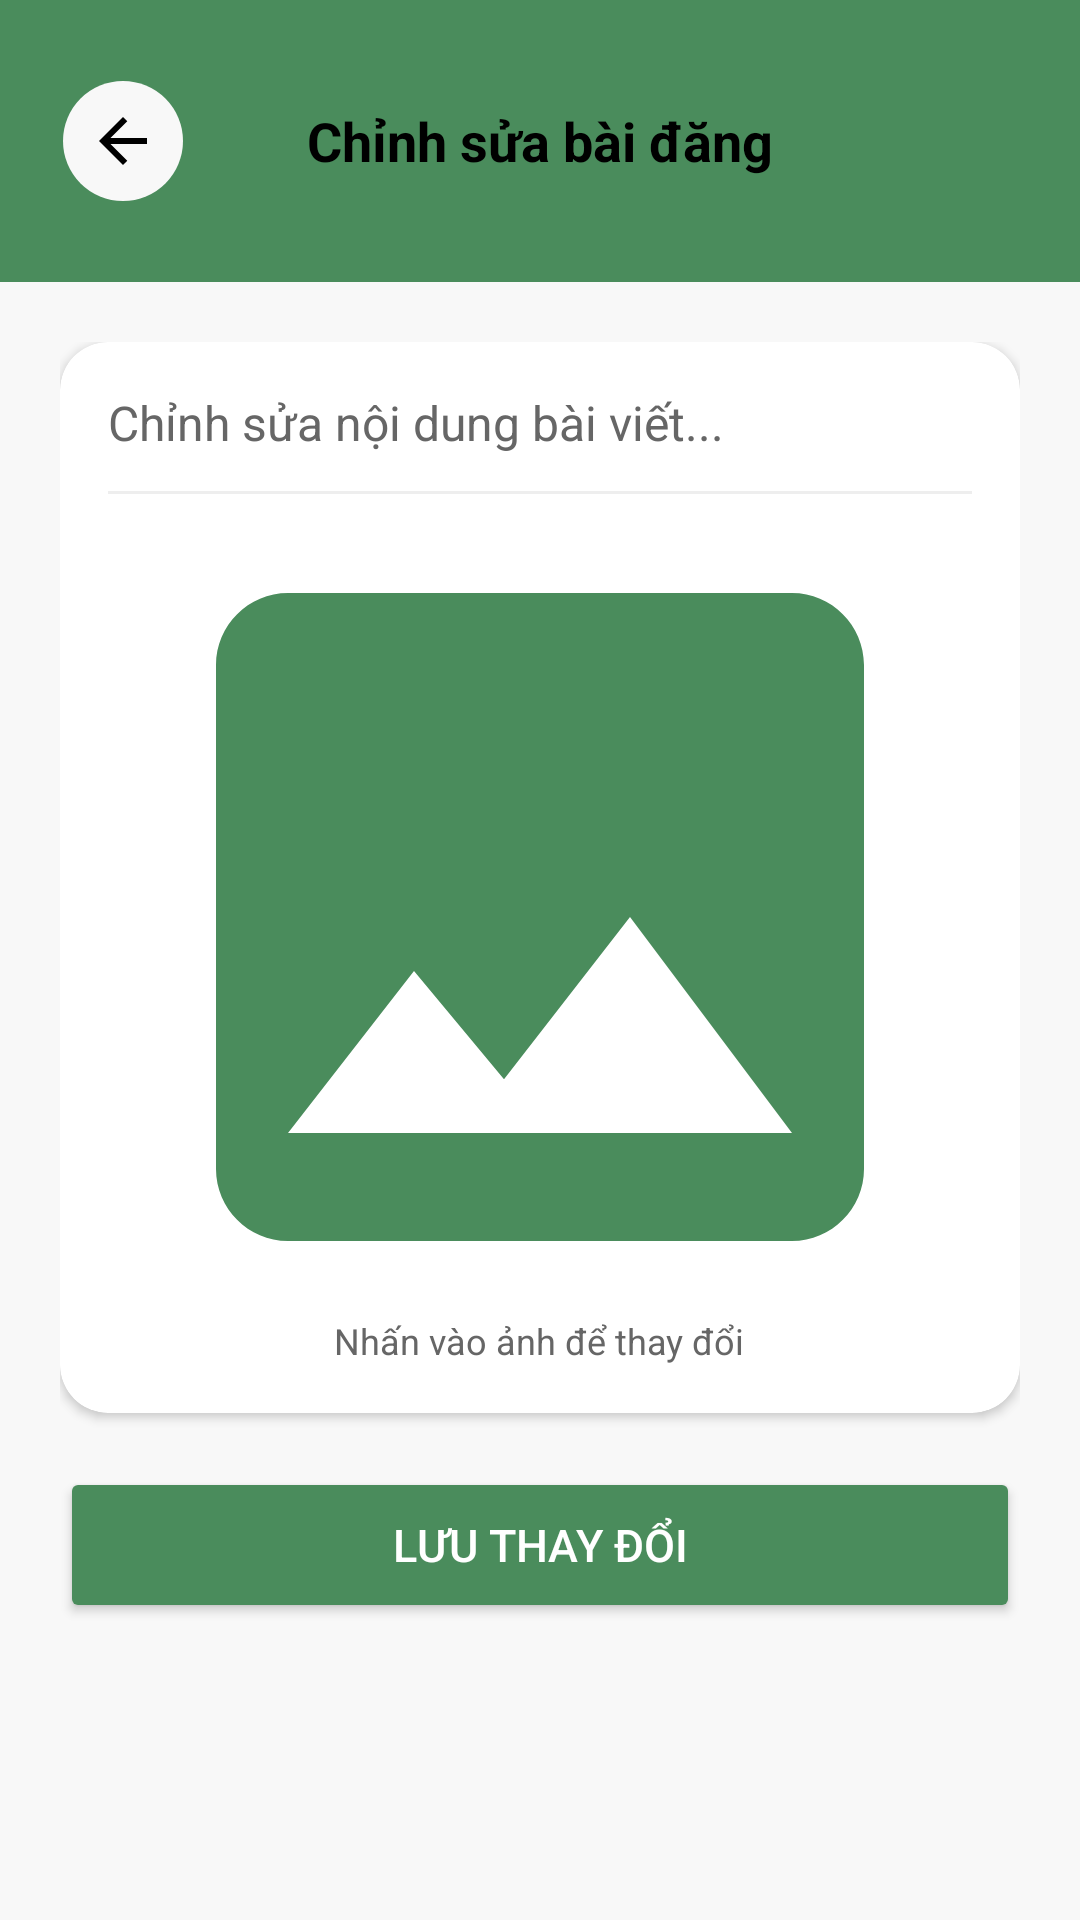

Named icons in this screenshot (1080w x 1920h) and their bounding boxes, [left=x1, top=y1, right=x2, bottom=y2]:
arrow back: [left=63, top=81, right=183, bottom=201]
